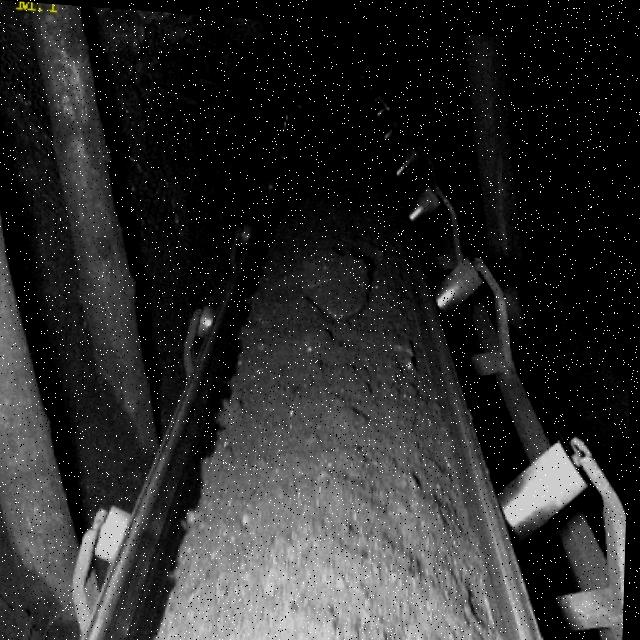large_sized_coal: (300, 241, 379, 318)
